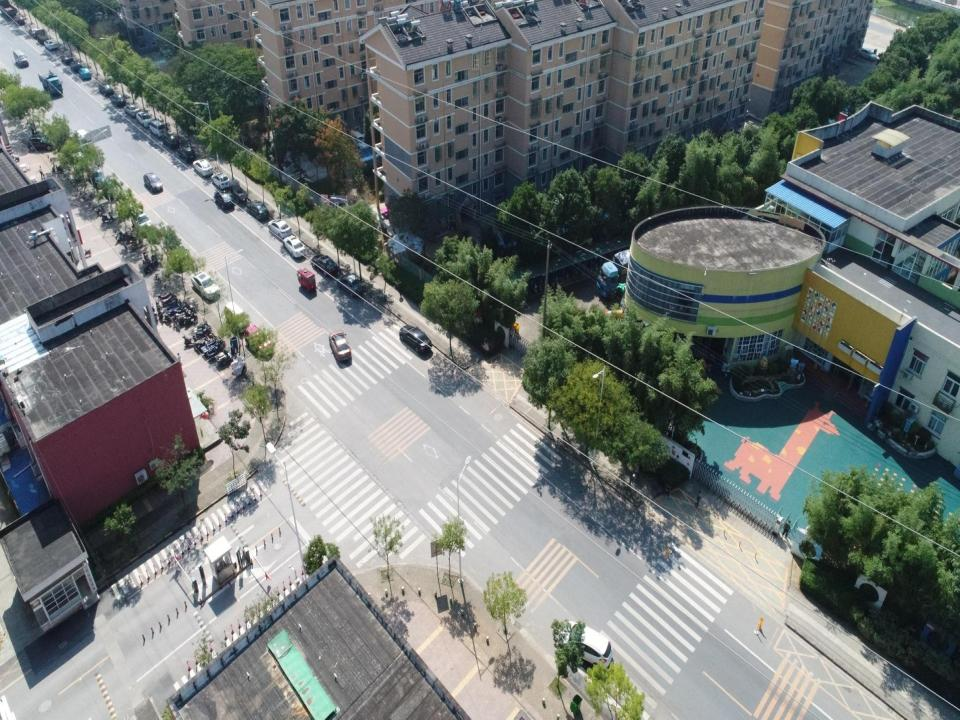car: (554, 616, 614, 674), (399, 324, 432, 355), (244, 324, 273, 359), (190, 270, 221, 302), (329, 329, 352, 362), (310, 253, 339, 278), (338, 273, 364, 299), (169, 241, 189, 271), (282, 234, 306, 258), (131, 207, 153, 232), (74, 129, 94, 156), (247, 200, 270, 222), (268, 218, 292, 239), (143, 172, 164, 195), (26, 134, 52, 152), (88, 165, 106, 191), (246, 80, 261, 110), (192, 158, 214, 178), (214, 189, 234, 211), (348, 130, 370, 150), (178, 144, 197, 164), (210, 171, 230, 190), (13, 48, 29, 69), (857, 47, 877, 62), (136, 111, 153, 128), (162, 134, 180, 150), (98, 81, 114, 97), (110, 92, 126, 107), (93, 9, 108, 24), (124, 103, 140, 117), (78, 66, 92, 81), (61, 49, 74, 63), (44, 38, 58, 49), (13, 13, 24, 26), (70, 59, 83, 69), (29, 27, 38, 37)
truck: (596, 248, 661, 298), (38, 70, 63, 96), (0, 0, 17, 17), (36, 27, 47, 41)
van: (224, 301, 248, 334), (150, 118, 168, 138)
